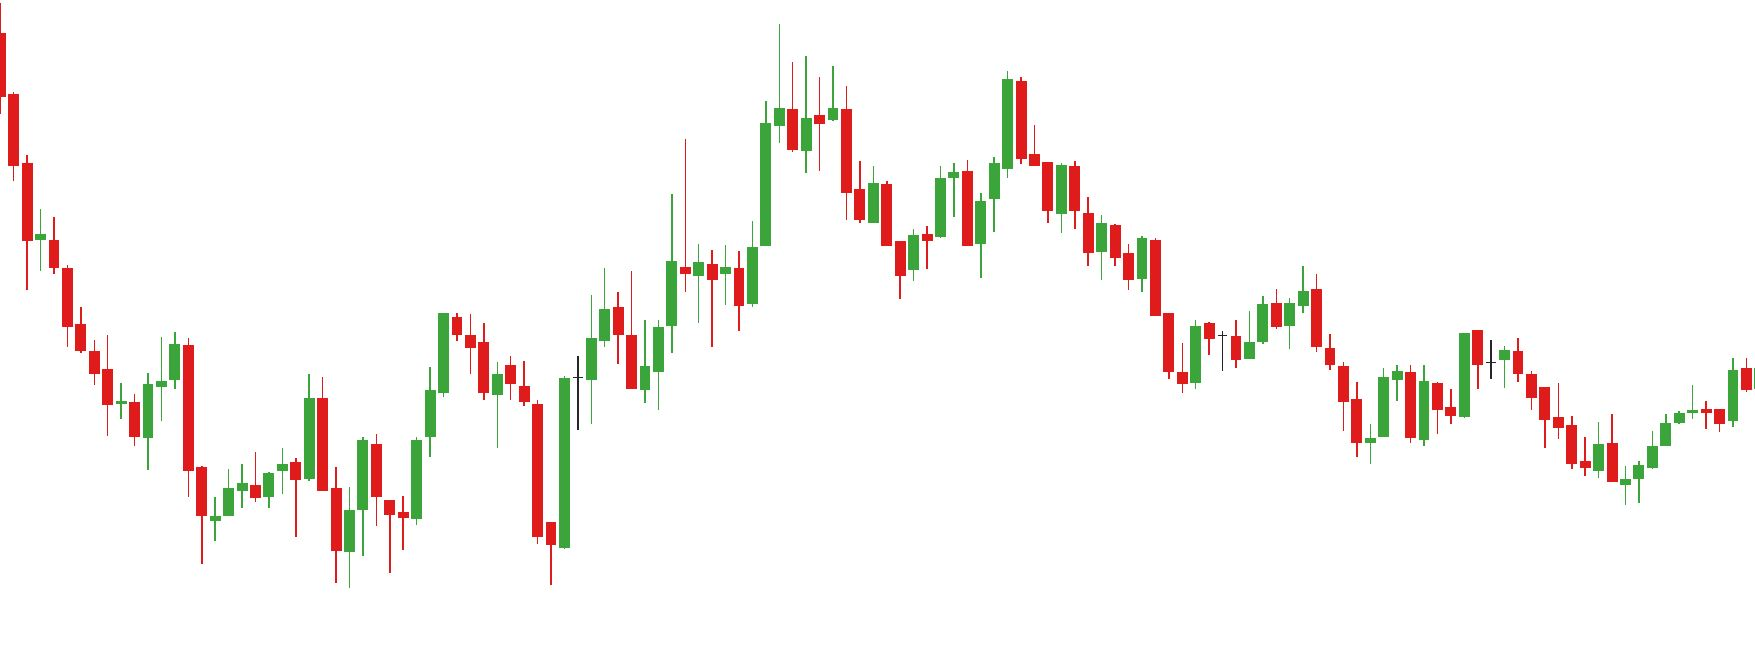buy: (382, 409, 559, 595), (195, 437, 355, 593)
sell: (677, 24, 801, 231)
